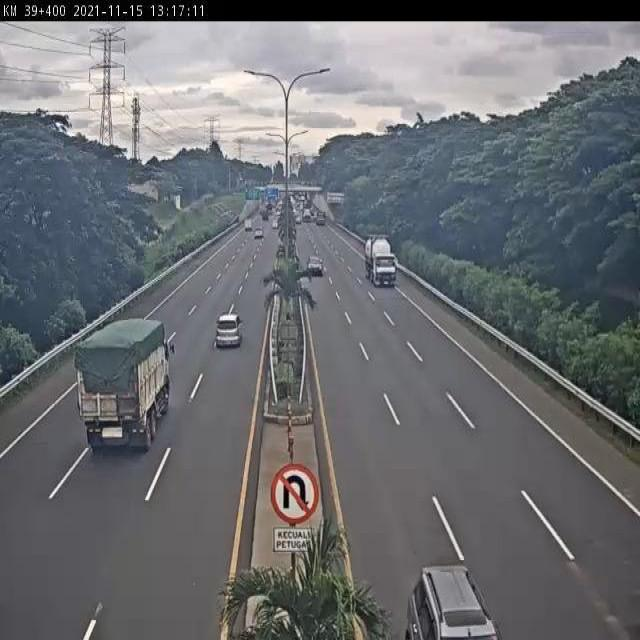car: (213, 309, 245, 351), (305, 252, 326, 280)
truck-l-: (76, 317, 174, 456)
truck-xl-: (362, 233, 399, 290)
